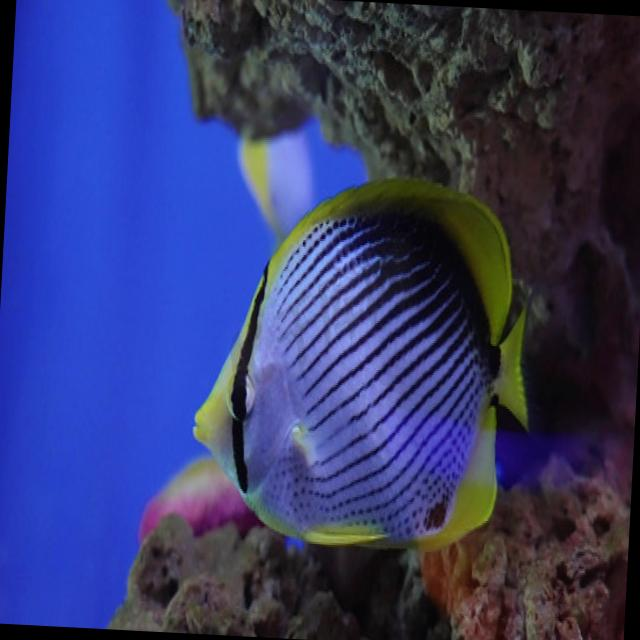ButterflyFish: (184, 182, 538, 585)
